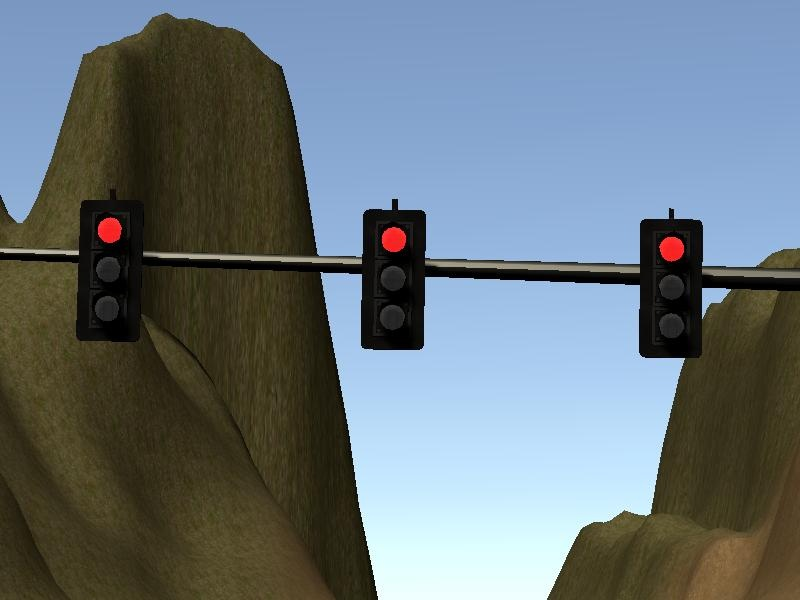red: (74, 197, 145, 343), (359, 206, 427, 351), (638, 217, 704, 359)
